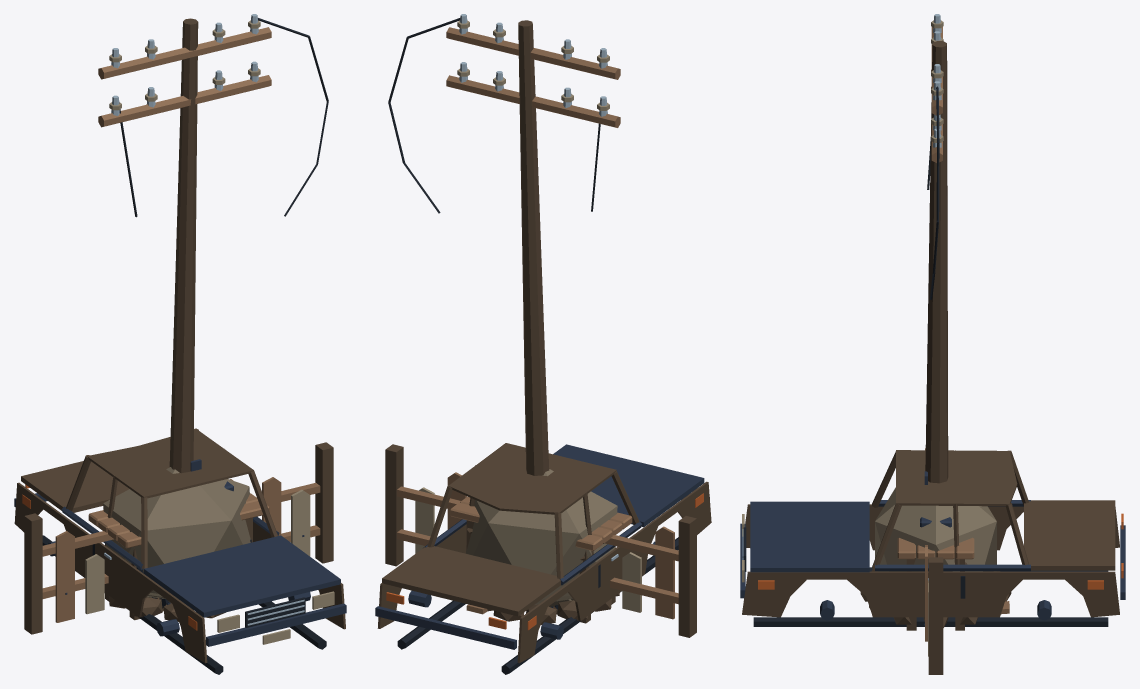
File: camp_props.glb
3 renders of one model, left to right at view 1: azimuth 30°, elevation 25°; view 2: azimuth 150°, elevation 25°; view 3: azimuth 270°, elevation 25°, orthographic.
Visible parts, largest first — view 1: moskvich_wreck_LOD0, telegraph_pole_LOD0, broken_fence_LOD0, rock_c_LOD0, workbench_LOD0, firepit_LOD0; view 2: moskvich_wreck_LOD0, telegraph_pole_LOD0, broken_fence_LOD0, rock_c_LOD0, workbench_LOD0, firepit_LOD0; view 3: moskvich_wreck_LOD0, telegraph_pole_LOD0, rock_c_LOD0, broken_fence_LOD0, workbench_LOD0.
Part boxes in pixels (x1,y1,x2,y2): moskvich_wreck_LOD0: (14,428,346,674); telegraph_pole_LOD0: (98,14,328,473); broken_fence_LOD0: (24,442,333,634); rock_c_LOD0: (103,467,250,596); workbench_LOD0: (88,479,269,620); firepit_LOD0: (104,592,225,621); moskvich_wreck_LOD0: (375,443,711,674); telegraph_pole_LOD0: (388,14,620,475); broken_fence_LOD0: (385,444,696,637); rock_c_LOD0: (466,469,617,602); workbench_LOD0: (450,496,632,623); firepit_LOD0: (487,593,619,625); moskvich_wreck_LOD0: (740,450,1125,626); telegraph_pole_LOD0: (924,14,948,484); rock_c_LOD0: (875,487,996,571); broken_fence_LOD0: (924,448,1009,674); workbench_LOD0: (897,517,974,630).
Size of what is drawn, in the model's own units: 3.57 by 6.61 by 3.97.
